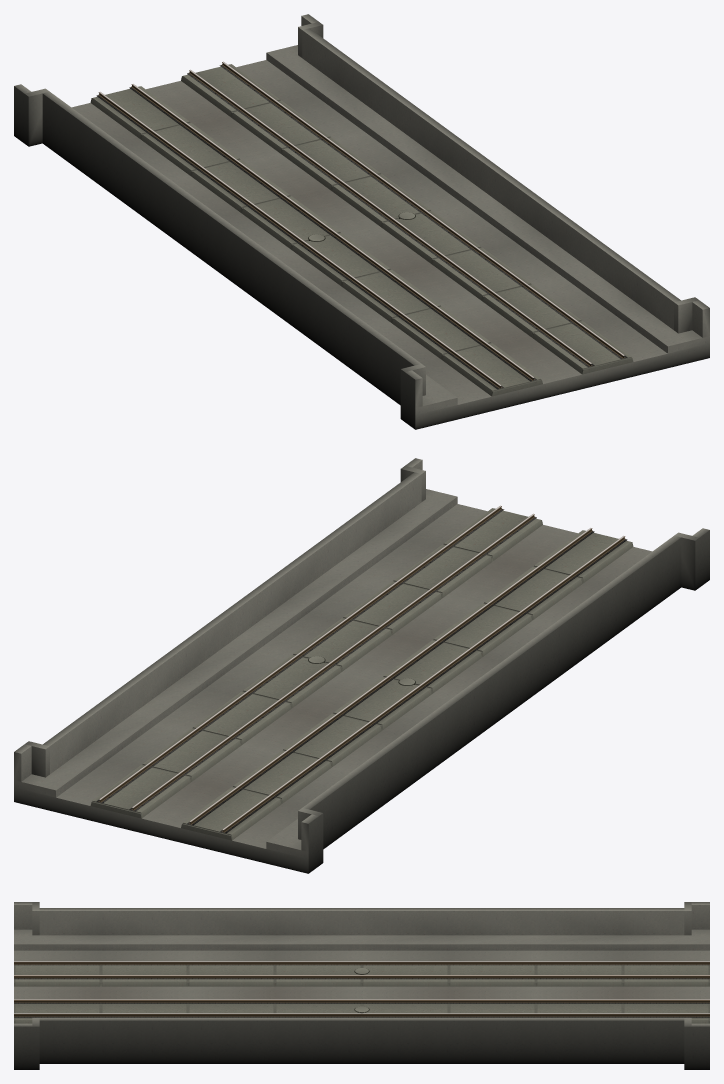
File: 2RAIL_KONKURI.glb
The picture shows the model from 3 angles, top to bottom: view 1: azimuth 30°, elevation 25°; view 2: azimuth 150°, elevation 25°; view 3: azimuth 270°, elevation 25°; orthographic projection. The views are drawn at different scales.
Visible parts, largest first — view 1: obj6; view 2: obj6; view 3: obj6.
Part boxes in pixels (x1=…): obj6: x1=14, y1=14, x2=709, y2=429; obj6: x1=14, y1=458, x2=709, y2=873; obj6: x1=14, y1=902, x2=709, y2=1069.
Bounding box in the file's own units: 42.36 × 6.88 × 100.
4 materials, 3 textured.
